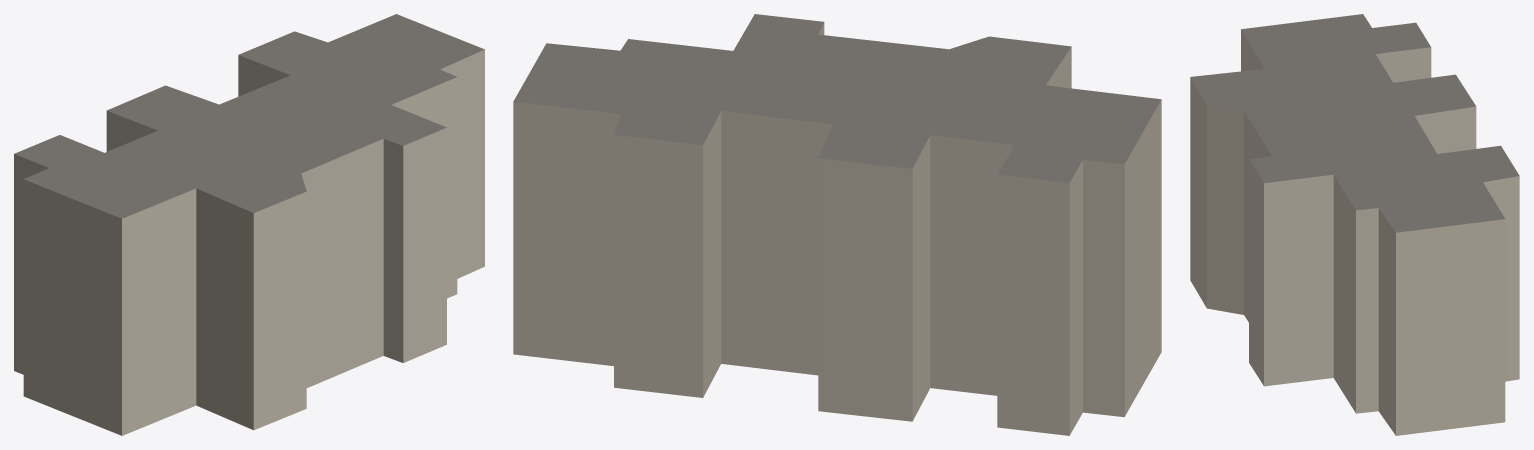
3 renders of one model, left to right at view 1: azimuth 30°, elevation 25°; view 2: azimuth 150°, elevation 25°; view 3: azimuth 270°, elevation 25°, orthographic. The views are drawn at different scales.
Parts seen in each view (by area): view 1: HP-w1159142021; view 2: HP-w1159142021; view 3: HP-w1159142021.
Boxes of the visible parts, <box> form: HP-w1159142021: <box>14,14,484,435</box>; HP-w1159142021: <box>513,14,1161,435</box>; HP-w1159142021: <box>1190,14,1519,435</box>.
Bounding box in the file's own units: 41.54 × 18 × 26.45.
